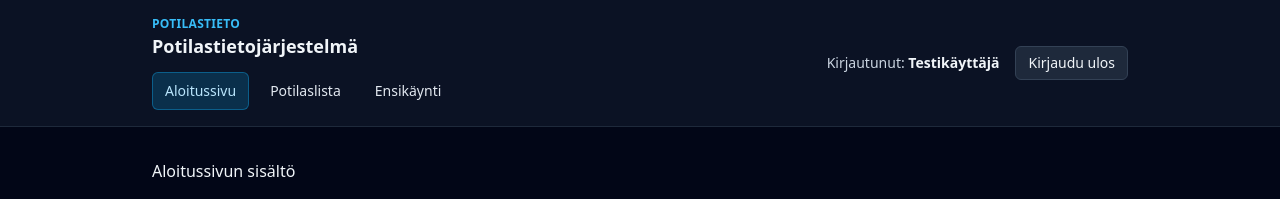
Test: ProtectedLayout navigation › allows navigating between main views using the links
Step 1. Click the link "Potilaslista" → point(305, 90), box [270,81,341,100]
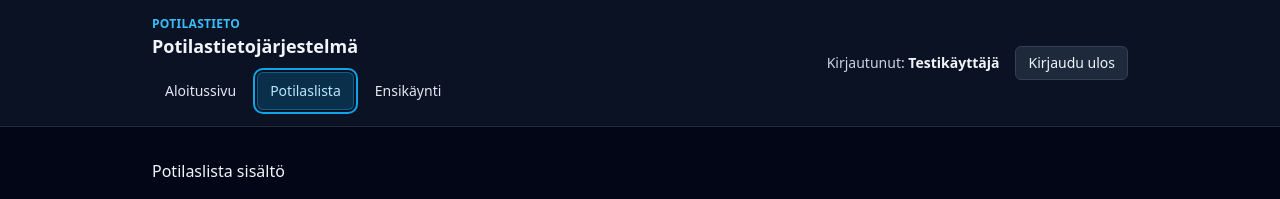
Check: the text "Potilaslista sisältö" is shown, box [152,160,285,182]
Step 2. Click the link "Ensikäynti" → point(408, 90), box [375,81,441,100]
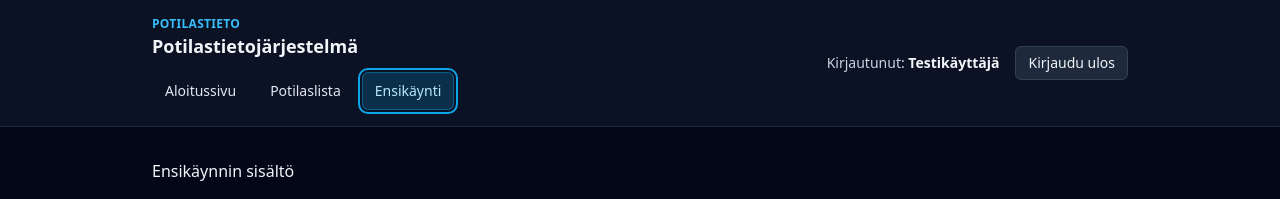
Check: the text "Ensikäynnin sisältö" is shown, box [152,160,294,182]
